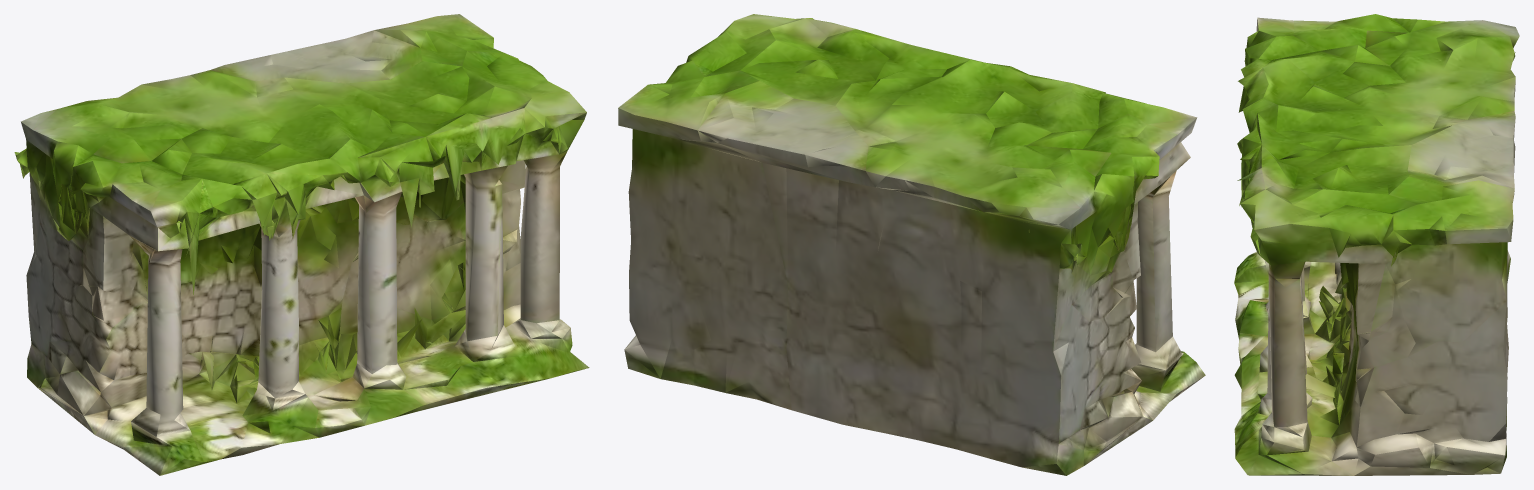
File: m2JungleRuinBg.glb
The picture shows the model from 3 angles, left to right: view 1: azimuth 30°, elevation 25°; view 2: azimuth 150°, elevation 25°; view 3: azimuth 270°, elevation 25°; orthographic projection. The views are drawn at different scales.
Parts seen in each view (by area): view 1: model; view 2: model; view 3: model.
Boxes of the visible parts, x1,y1,x2,y2 form: model: (14, 14, 589, 475); model: (618, 14, 1205, 475); model: (1234, 14, 1519, 475).
Size of the model in its own units: 1.9 by 1.08 by 1.05.
Materials: 1 (1 with a texture image).
